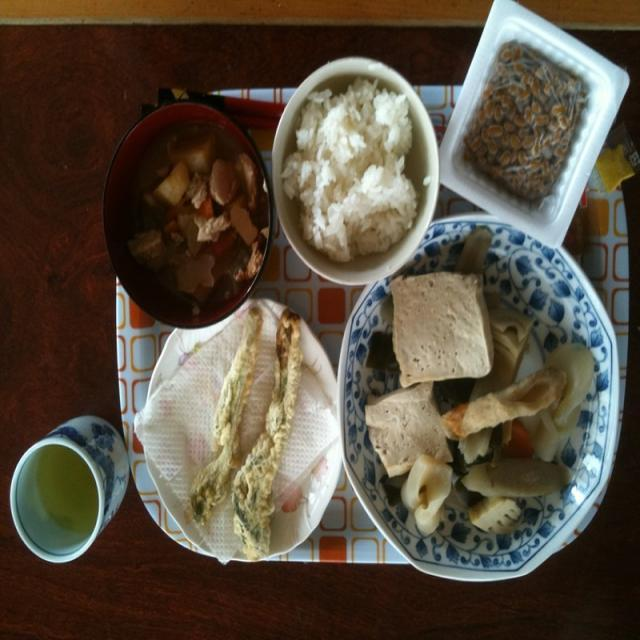Rice: (272, 51, 432, 276)
